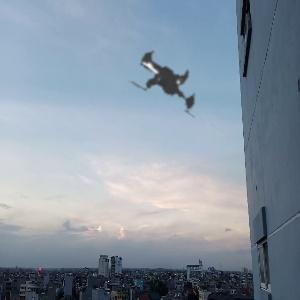drone: (100, 5, 242, 147)
